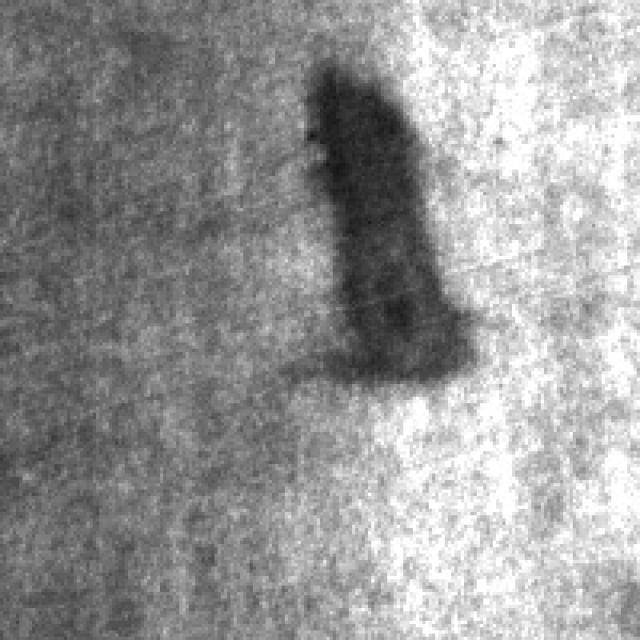patches: (282, 54, 476, 381)
